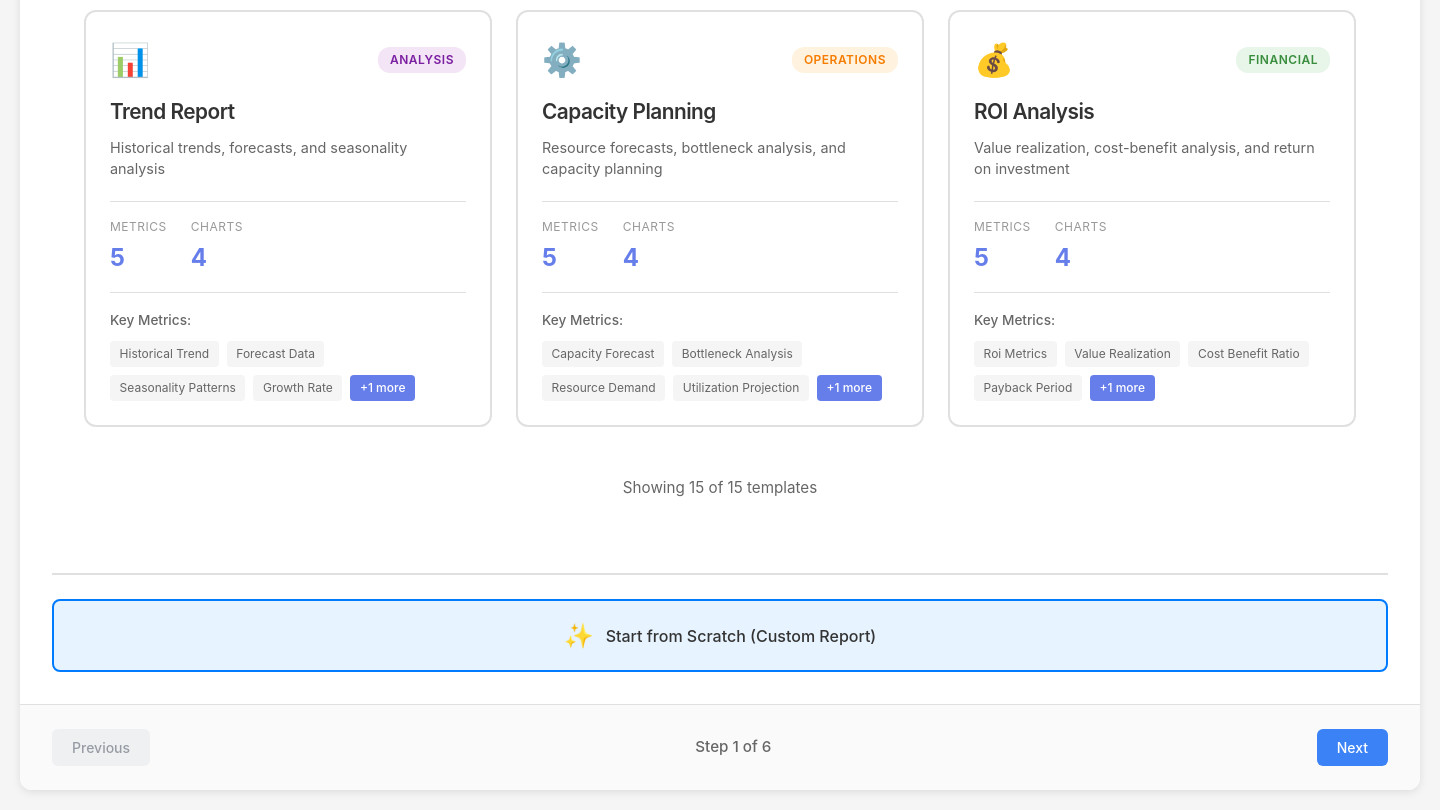
ReportBuilder › navigates to previous step when Previous button is clicked
(page scrolled)
Click the button "Next".
click(1352, 748)  # box [1317,729,1388,766]
(page scrolled)
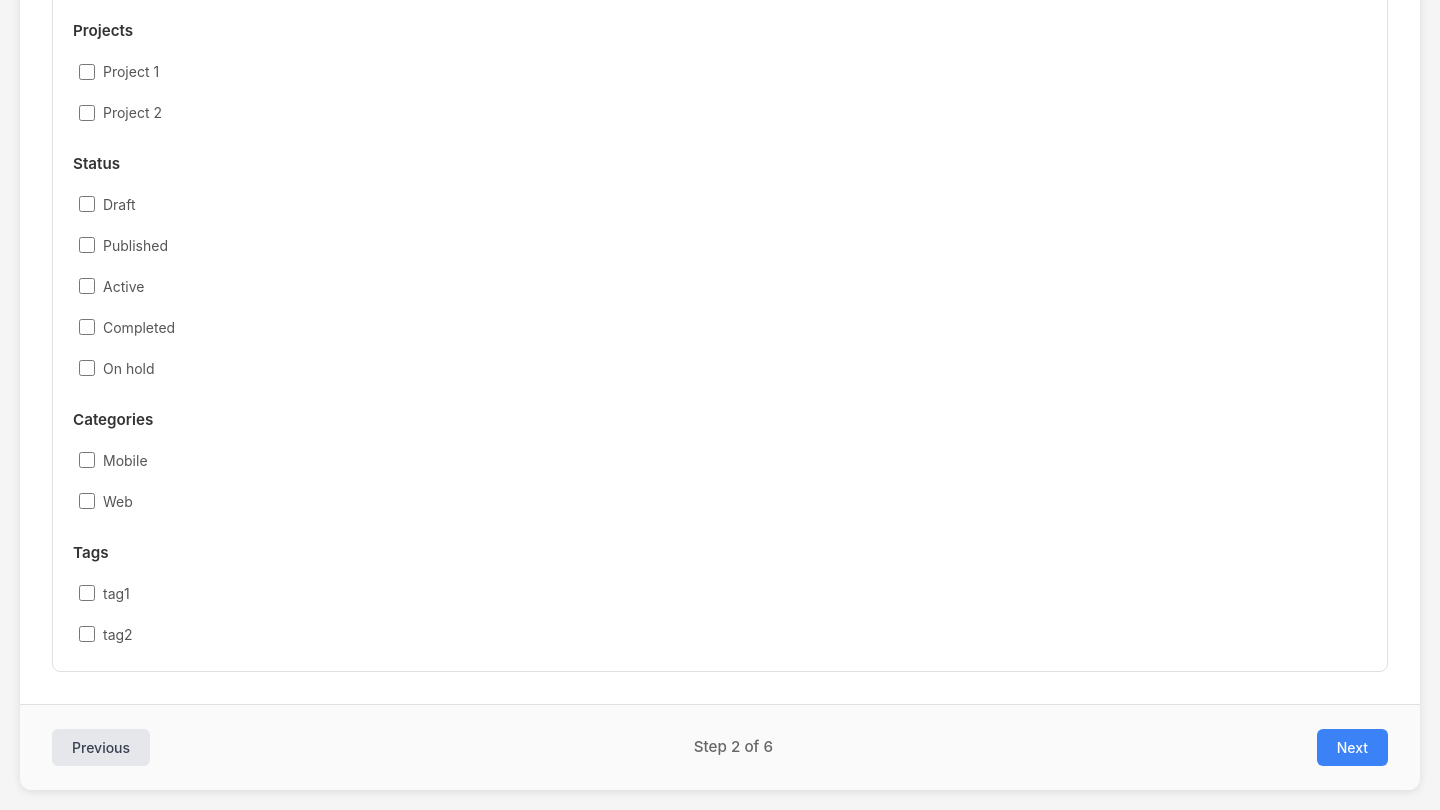
Click the button "Previous".
click(101, 747)  # box [52,729,150,766]
(page scrolled)
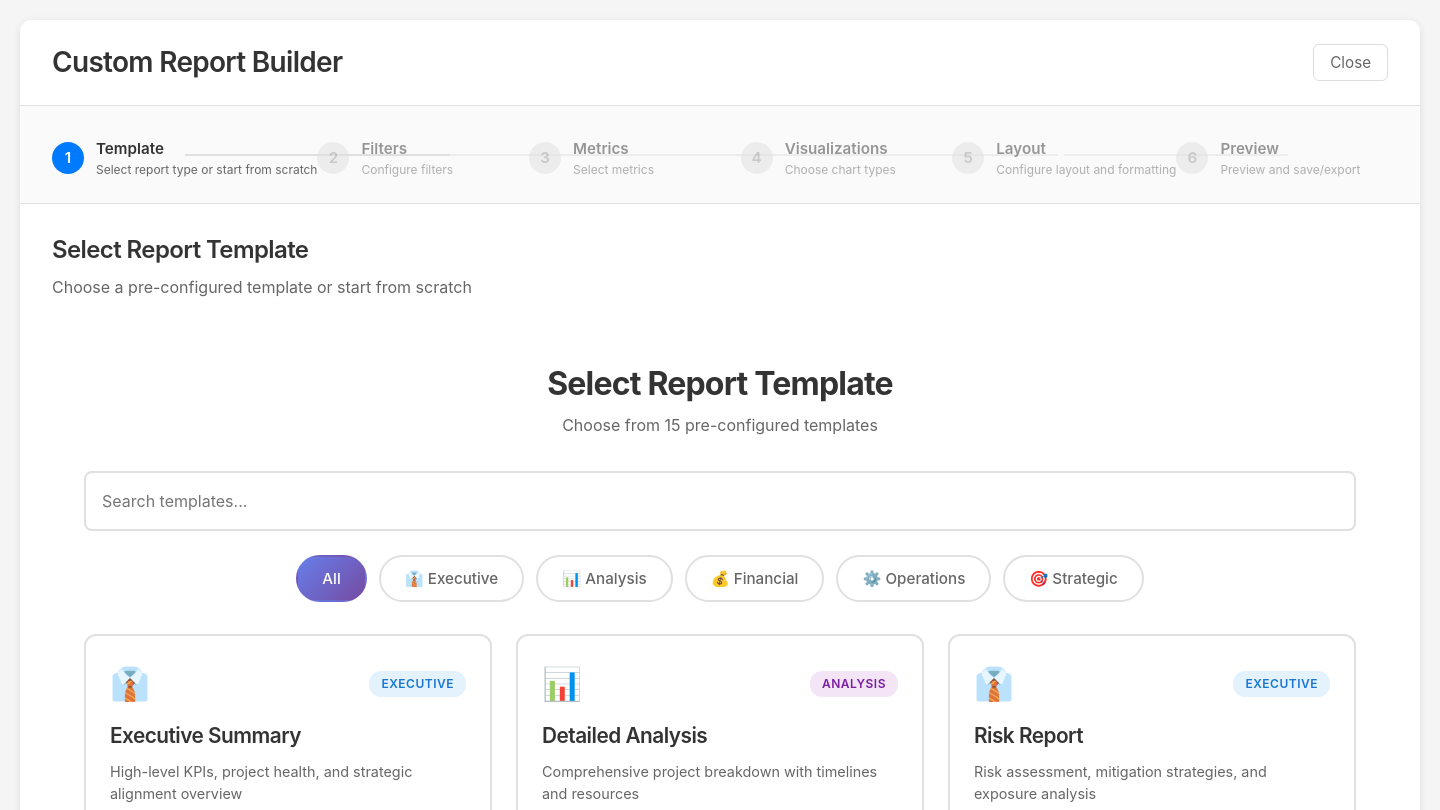
Now the text "Choose a pre-configured template or start from scratch" is shown, box [52,277,472,297]
